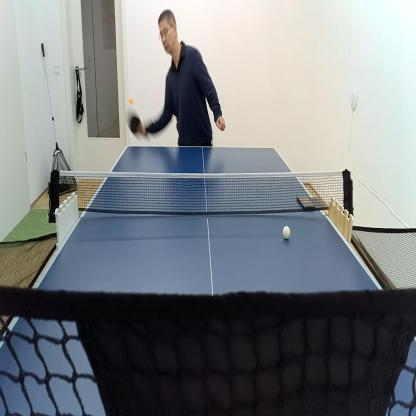Ball: (283, 226, 291, 239), (129, 96, 133, 105)
